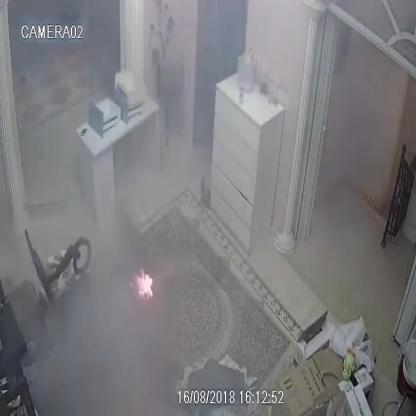fire: (135, 270, 153, 300)
